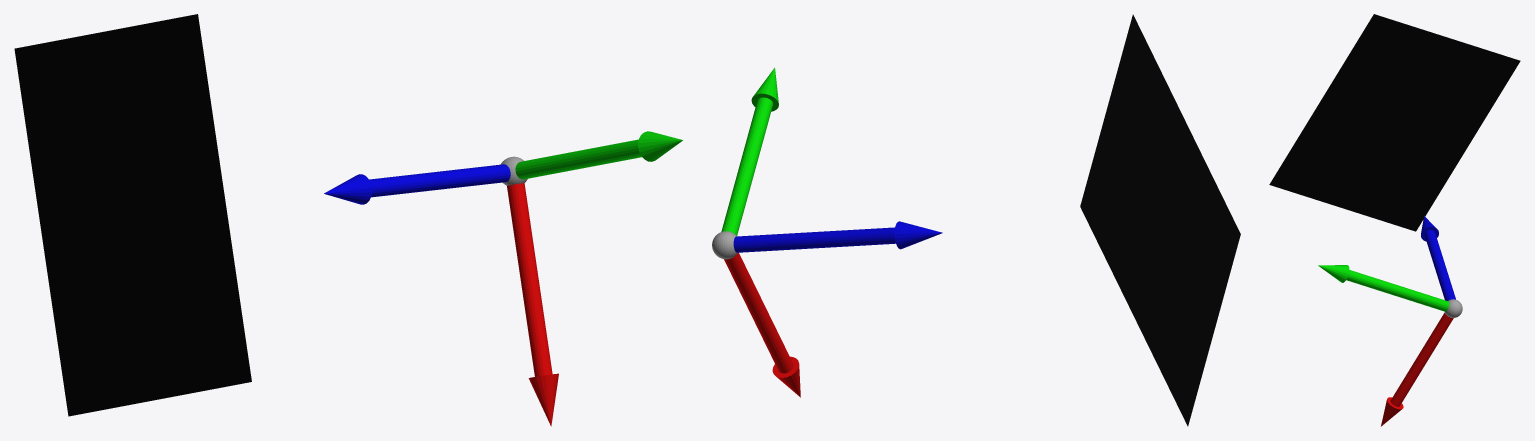
3 renders of one model, left to right at view 1: azimuth 30°, elevation 25°; view 2: azimuth 150°, elevation 25°; view 3: azimuth 270°, elevation 25°, orthographic. The views are drawn at different scales.
Bounding box in the file's own units: 0.2999 × 0.2701 × 0.2008.
